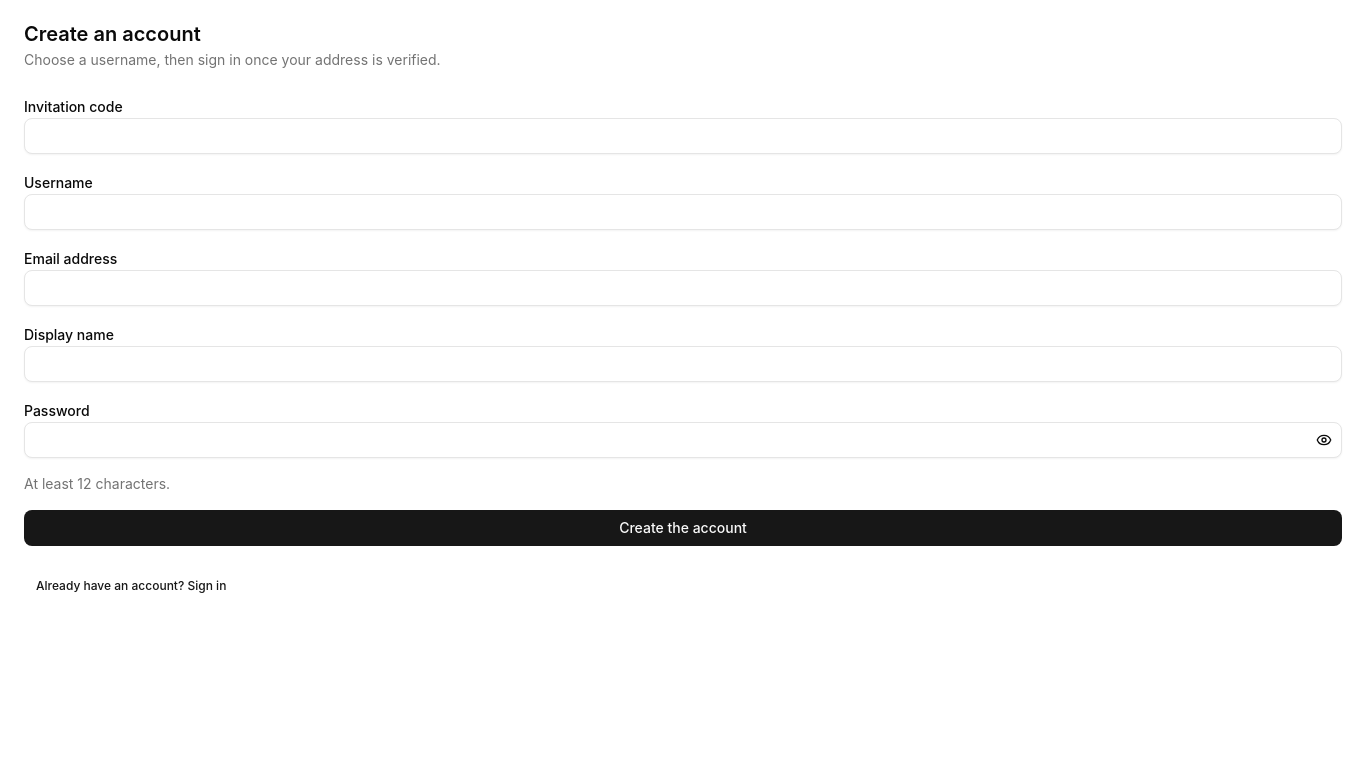
it: refuses an empty invitation in invite mode
The image size is (1366, 768).
In the field labelled "Username": (683, 212) [24,194,1342,230], type "jane"
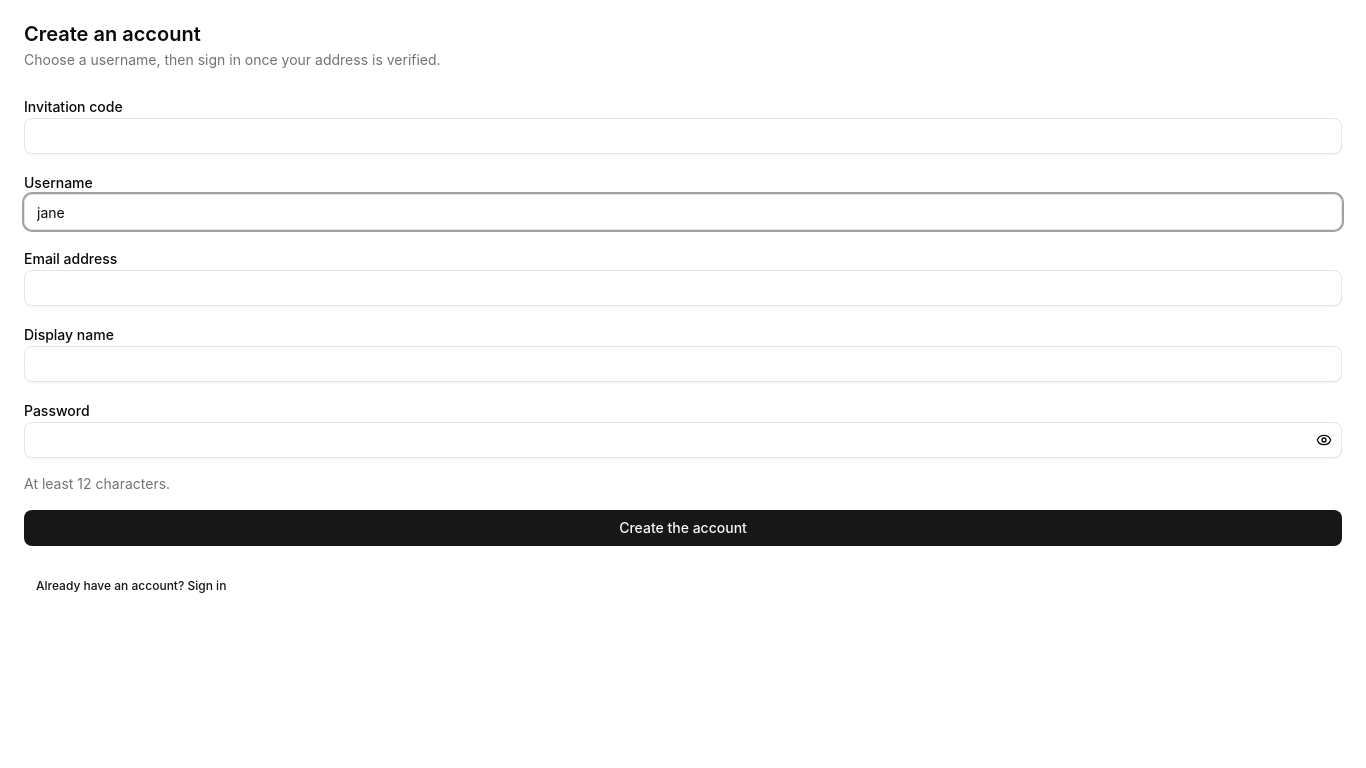
In the field labelled "Email address": (683, 288) [24,270,1342,306], type "jane@example.com"
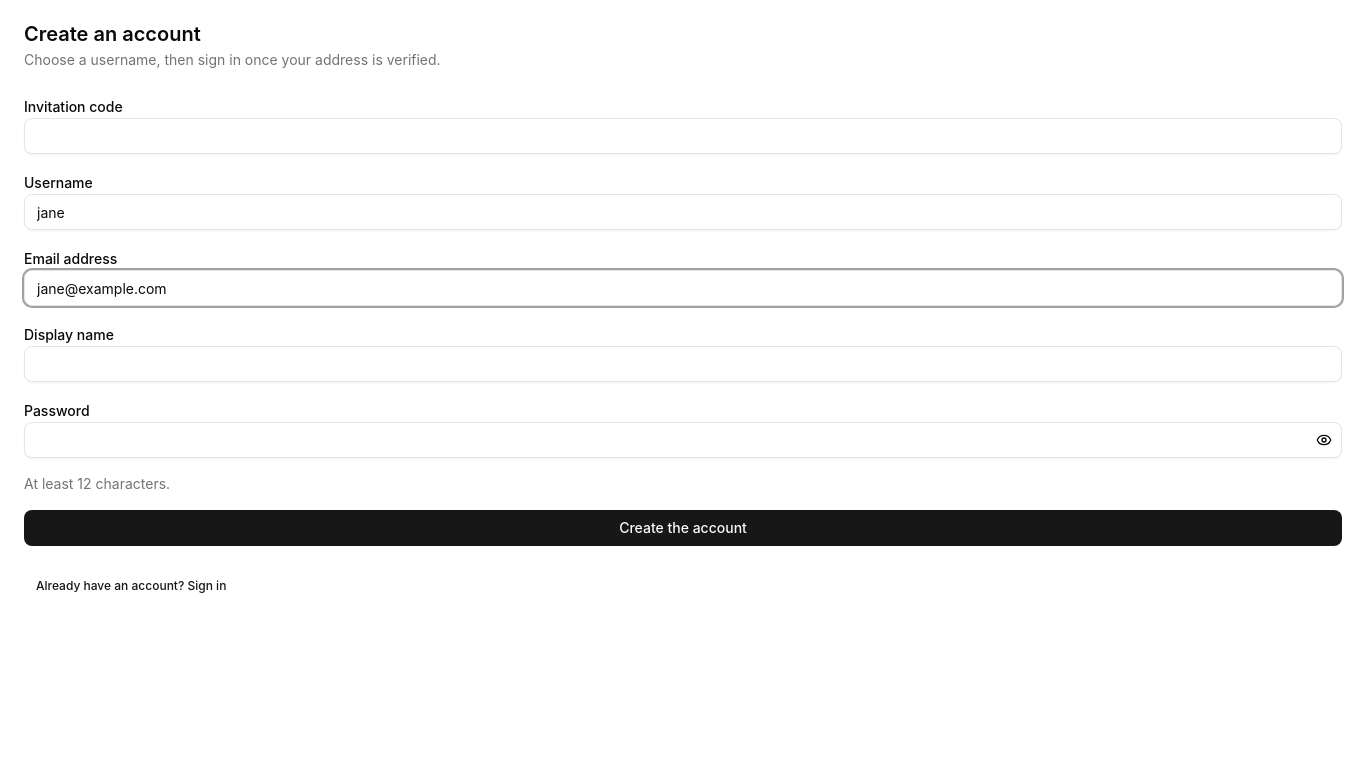
In the field labelled "Display name": (683, 364) [24,346,1342,382], type "Jane Doe"
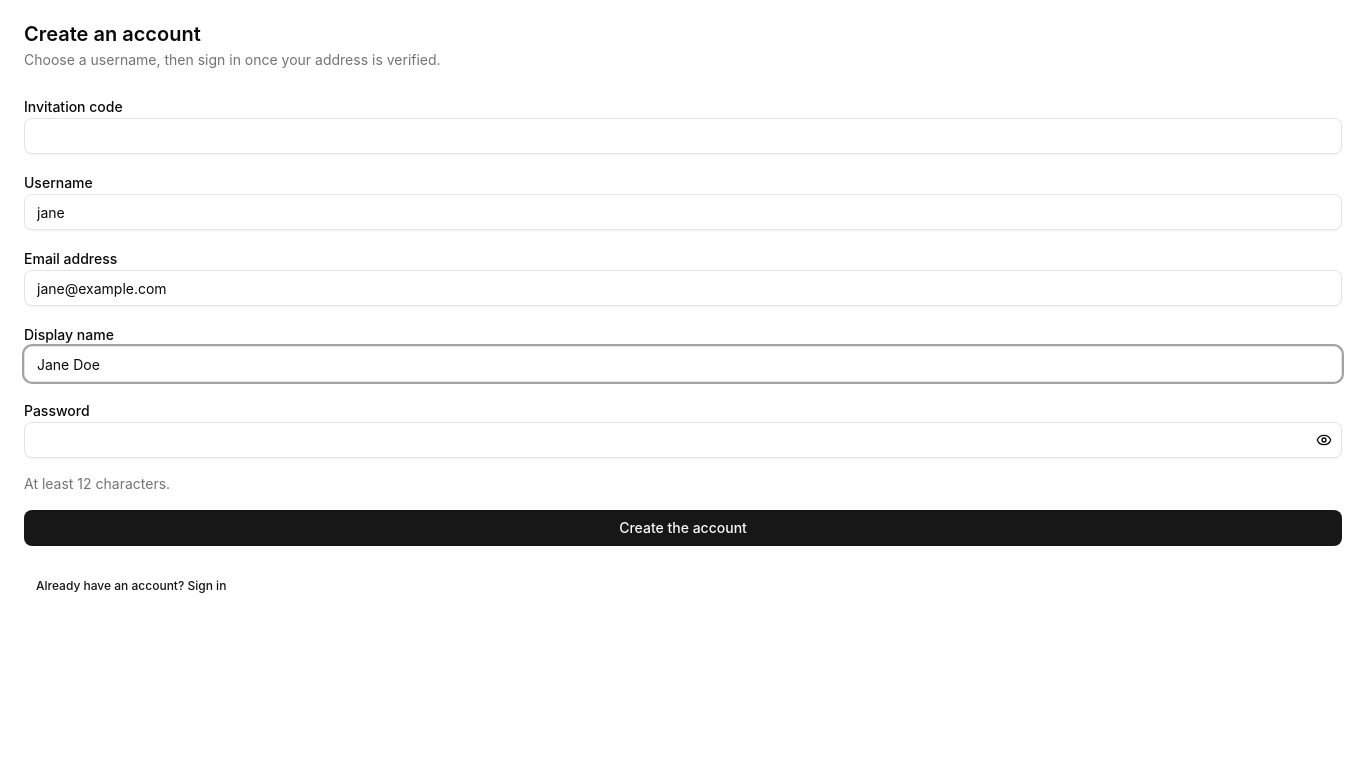
In the password field labelled "Password": (683, 440) [24,422,1342,458], type "a-long-enough-password"
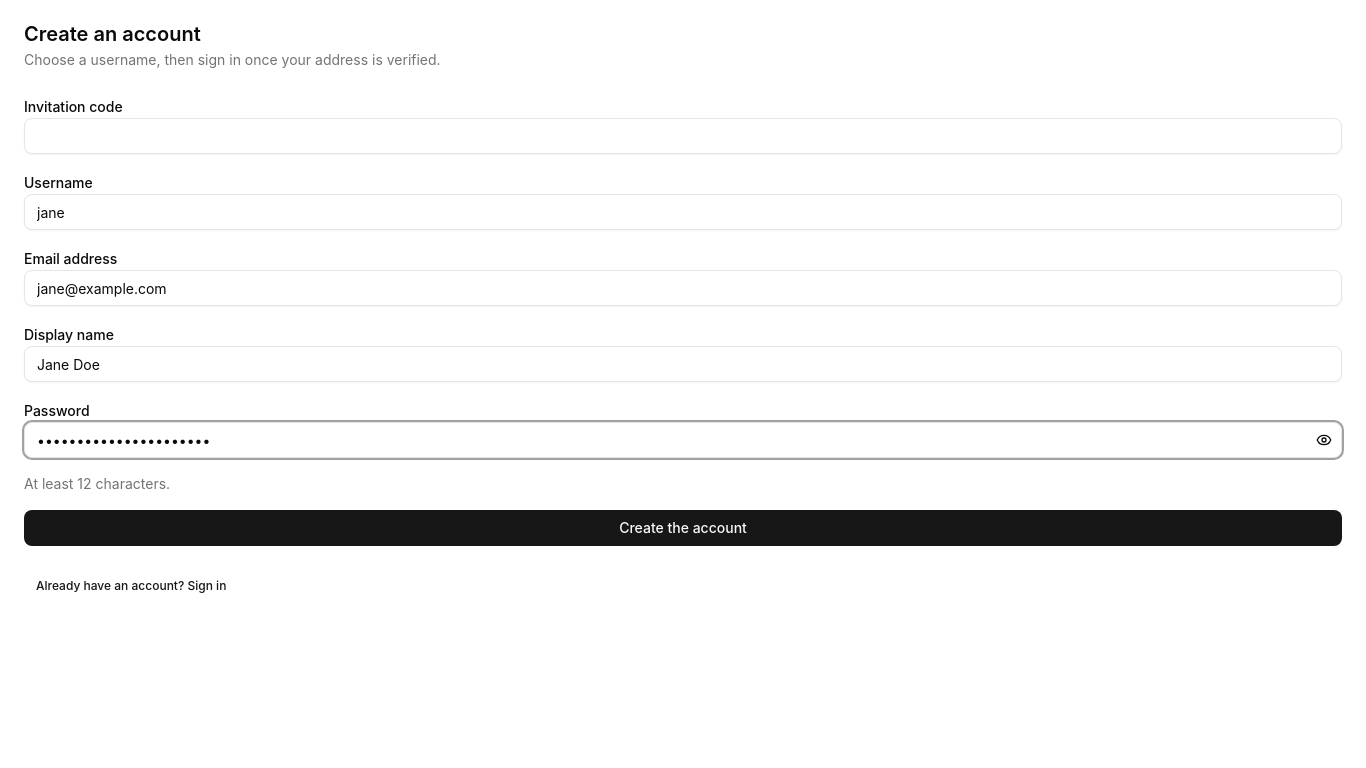
Click the button "Create the account": (683, 528) [24,510,1342,546]
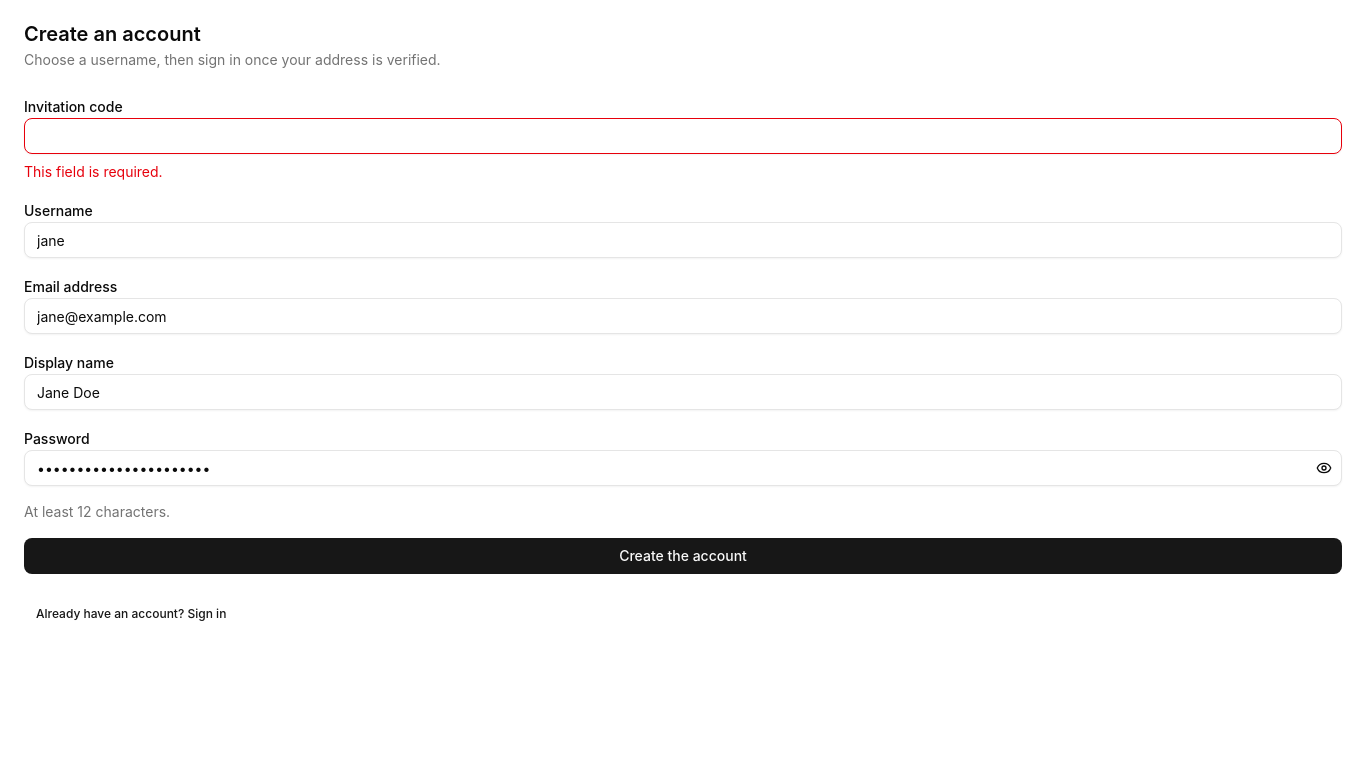
expect the text "This field is required." is shown: met, box [24,163,163,180]
